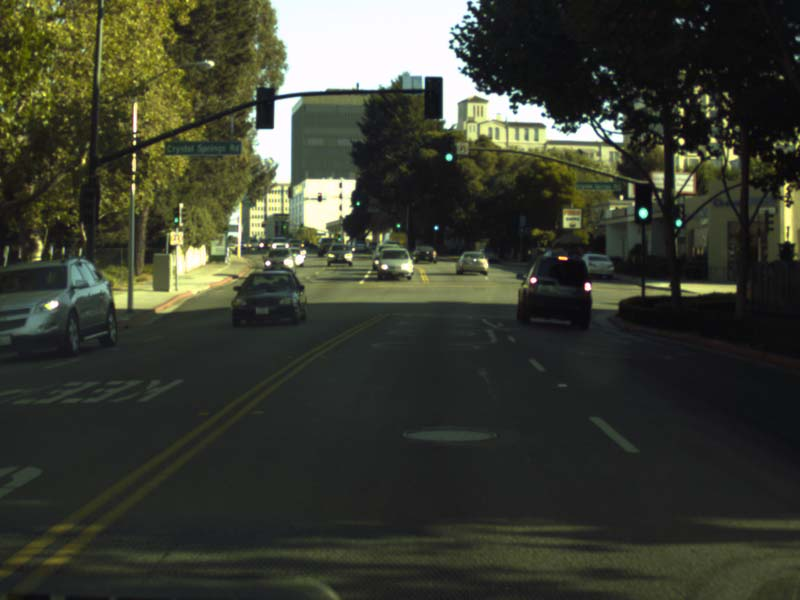Green: (634, 182, 651, 224), (441, 135, 455, 164), (671, 205, 684, 228), (173, 206, 178, 223), (355, 194, 361, 207), (395, 216, 401, 228), (433, 218, 438, 230)
Red: (318, 192, 322, 201)
